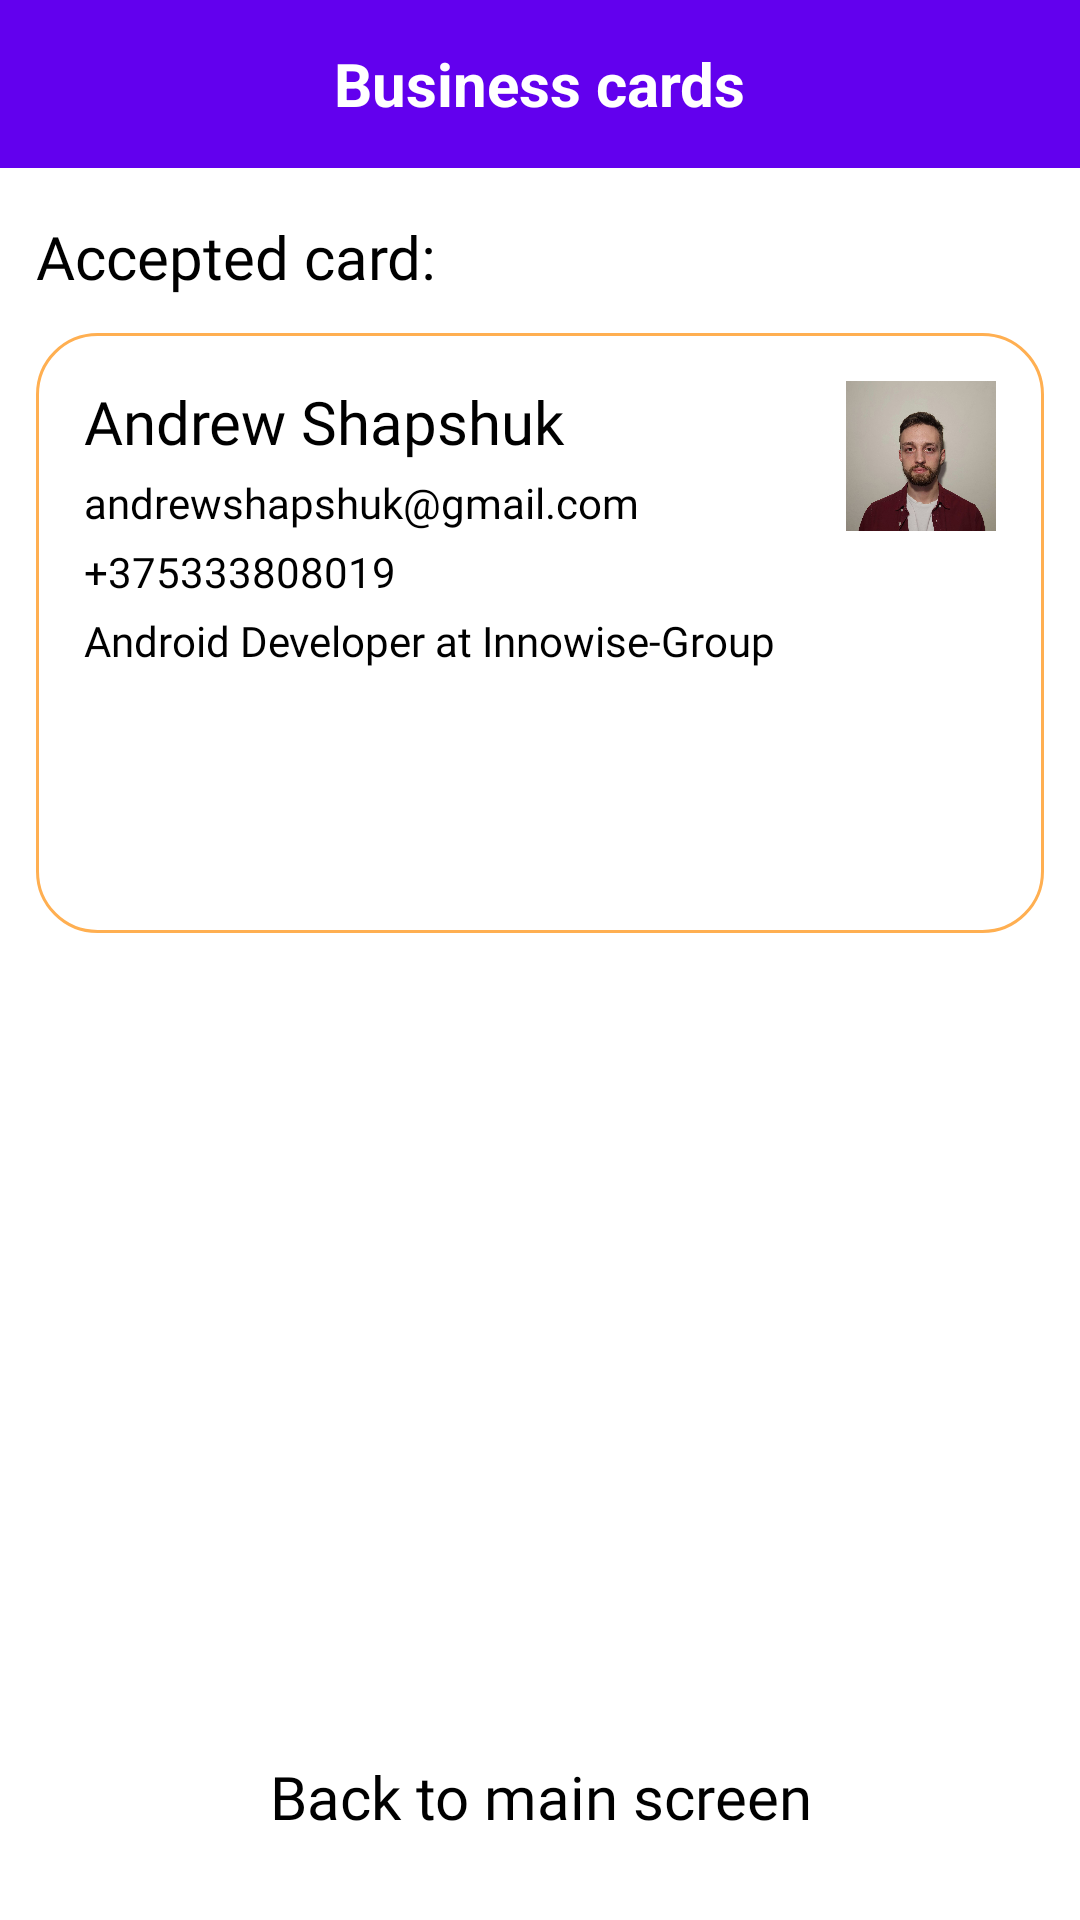

Icon bounding boxes for this 1080px×1920px phone screenshot, format region(x1, y1, x2, y2):
personal photo: region(846, 381, 996, 531)
